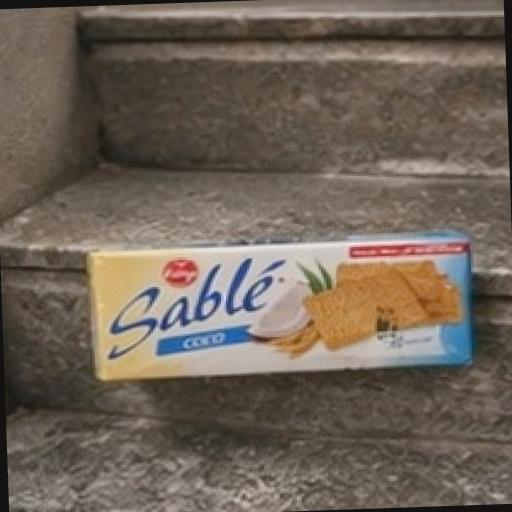sabl: (26, 159, 512, 468)
